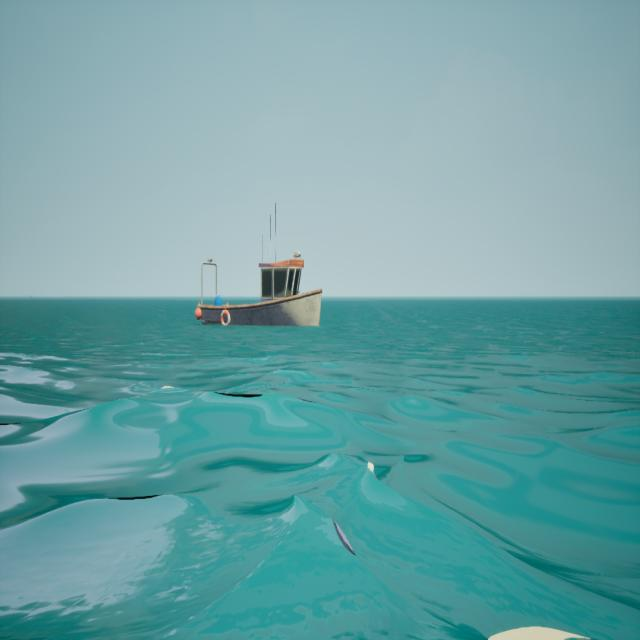ship: (186, 190, 329, 334)
